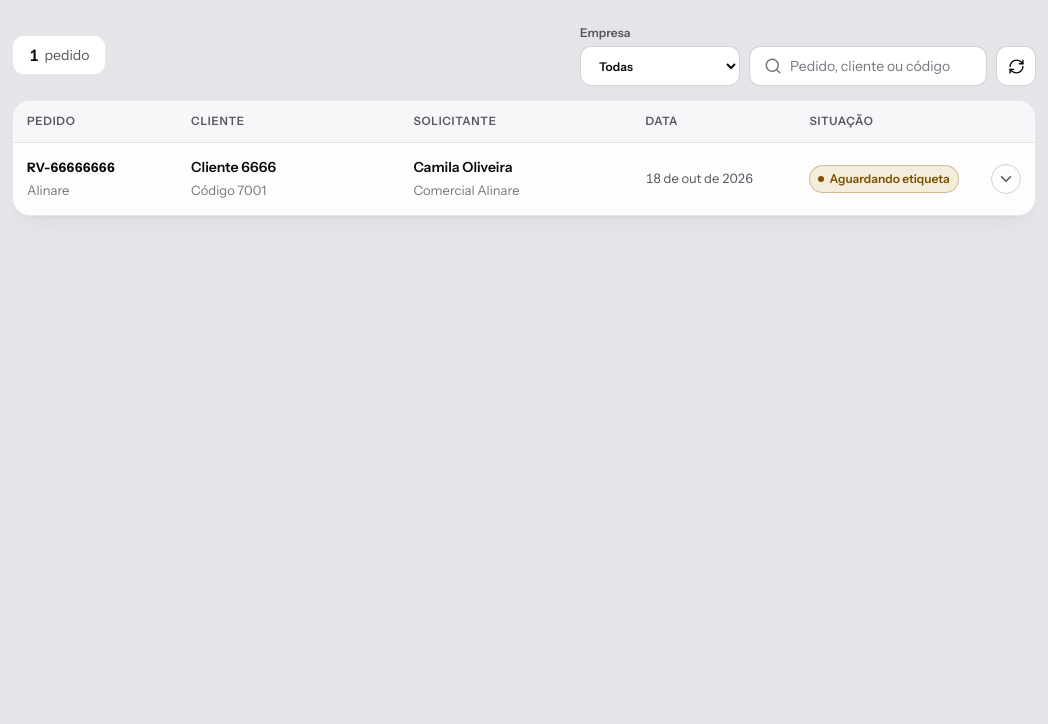
Test: Fila de emissão › mantém consulta falha como erro recuperável e não abre o registro
The width and height of the screenshot is (1048, 724).
Click the button "RV-66666666".
click(71, 167)  # box [13,143,1035,215]
(page scrolled)
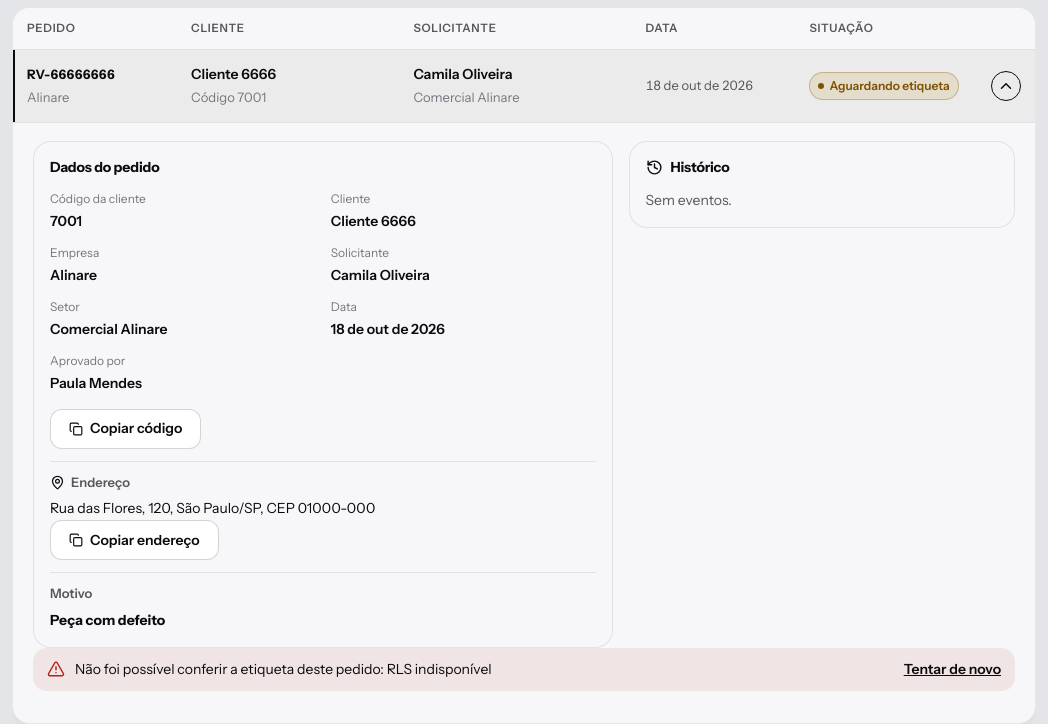
Check: the text "Não foi possível conferir a etiqueta deste pedido: RLS indisponível" is shown, box [75,660,492,678]
Click the button "Tentar de novo".
click(952, 669)  # box [904,659,1001,680]
(page scrolled)
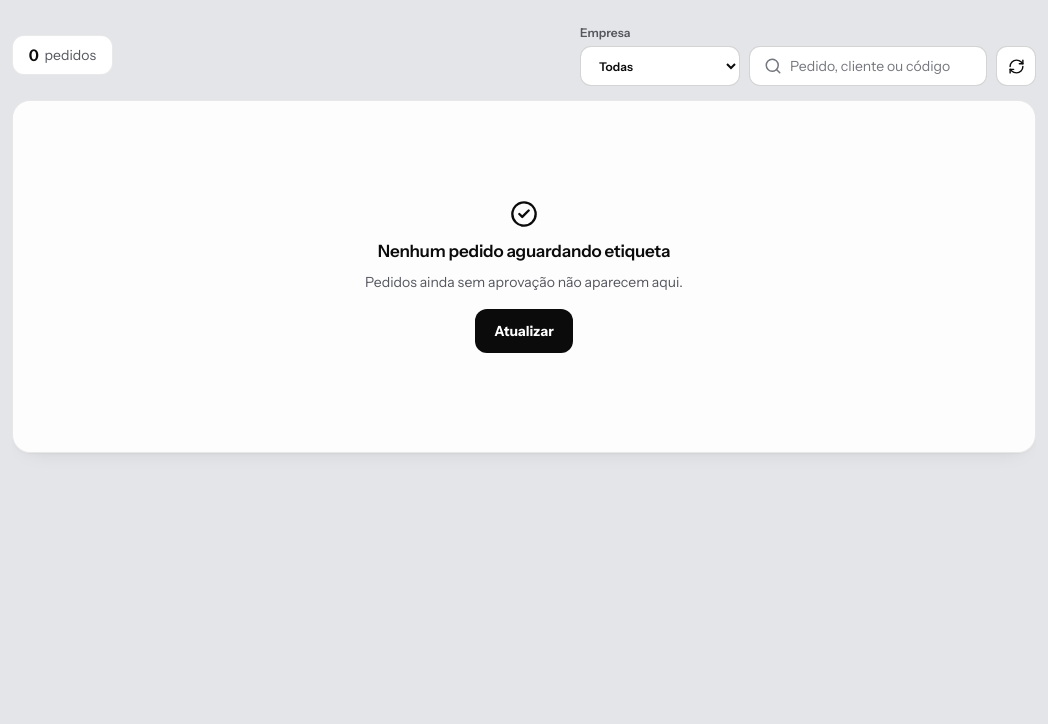
Check: the heading "Nenhum pedido aguardando etiqueta" is shown, box [378,240,670,262]
